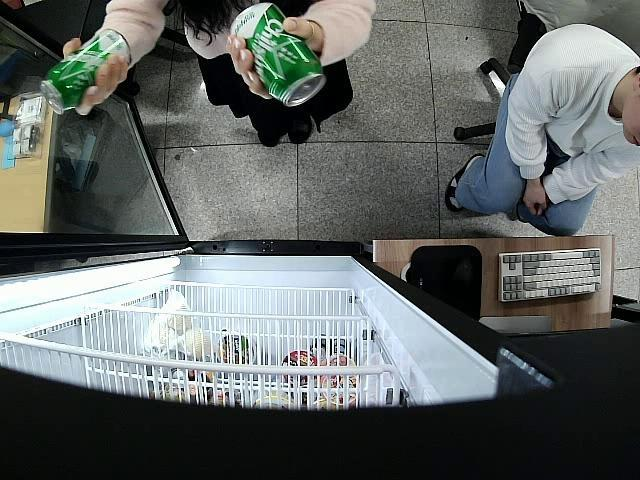12_chilsungCider: (228, 4, 326, 108), (40, 28, 132, 115)
